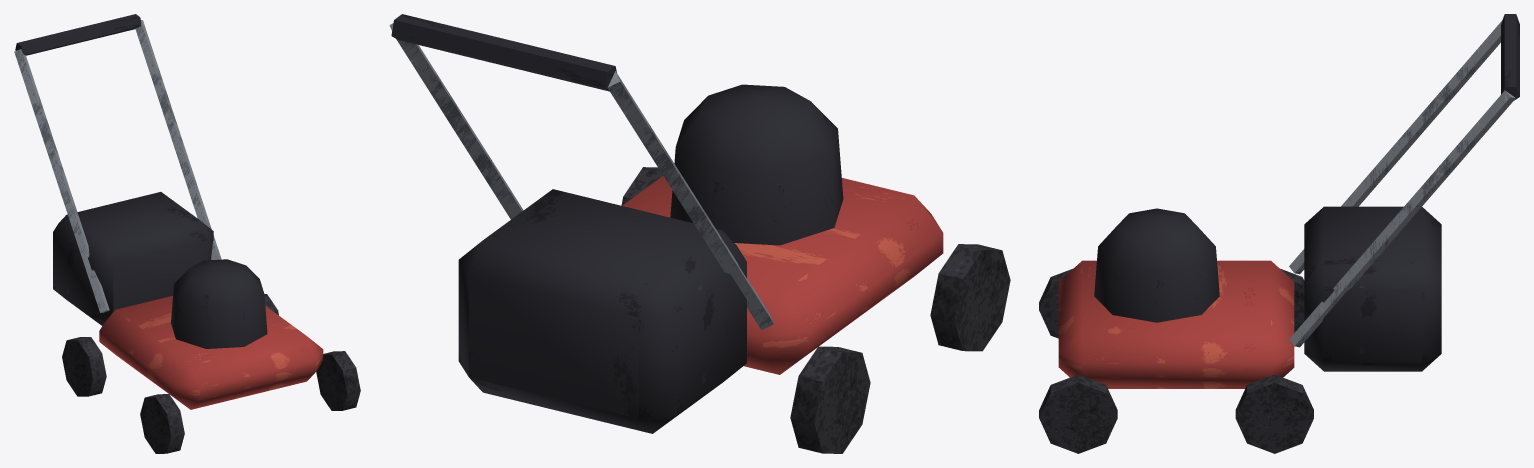
File: lawn_mower.glb
3 renders of one model, left to right at view 1: azimuth 30°, elevation 25°; view 2: azimuth 150°, elevation 25°; view 3: azimuth 270°, elevation 25°, orthographic. The views are drawn at different scales.
Visible parts, largest first — view 1: Prop; view 2: Prop; view 3: Prop.
Boxes of the visible parts, bbox=[...] form: Prop: bbox=[14, 14, 360, 453]; Prop: bbox=[389, 14, 1010, 453]; Prop: bbox=[1039, 14, 1519, 453].
Bounding box in the file's own units: 0.7 × 0.9702 × 1.22.
Materials: 3 (3 with a texture image).
